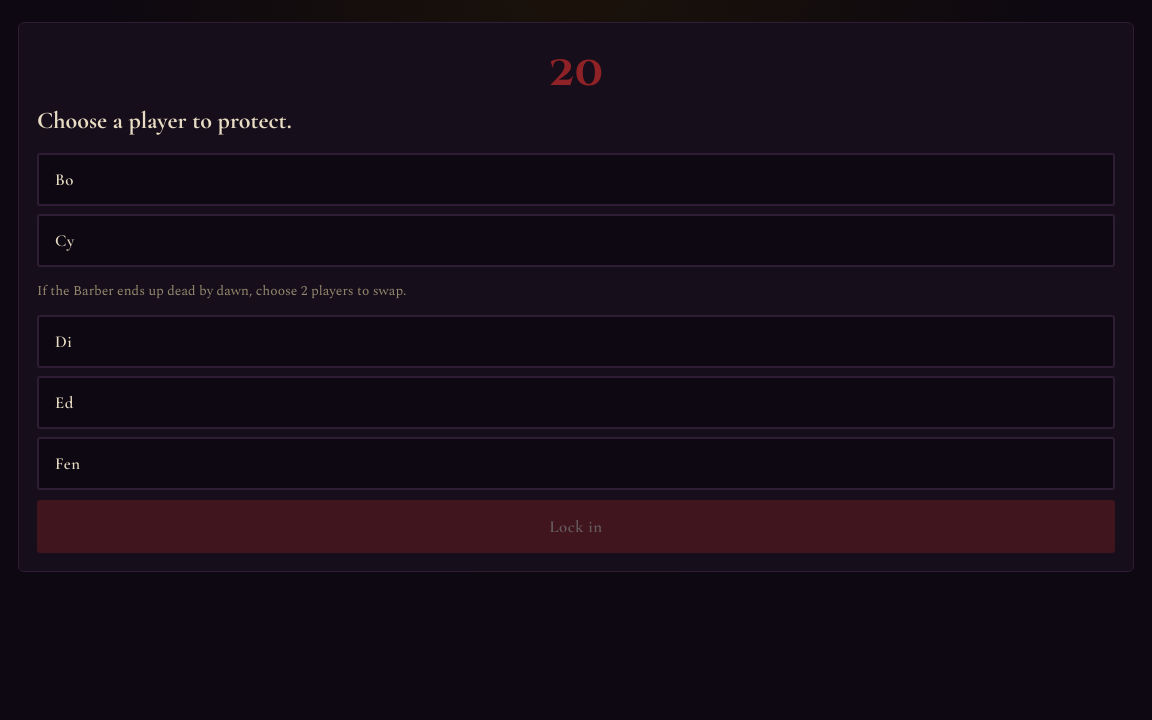
Test: NightPromptCard › the Barber-swap addon (prompt.barberSwap) › Lock in stays disabled with exactly one swap target picked — 0 or 2, never partial
The width and height of the screenshot is (1152, 720).
Click the button "Bo".
click(64, 180)  # box [37,153,1115,206]
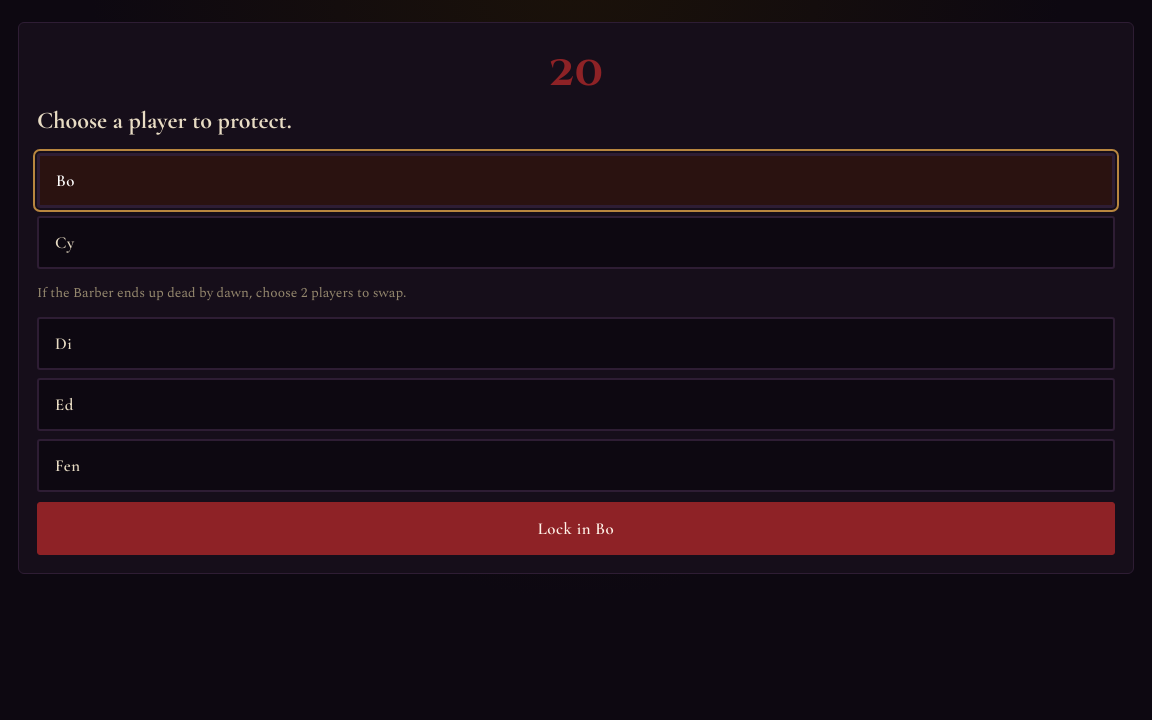
Click the button "Di".
click(64, 344)  # box [37,317,1115,370]
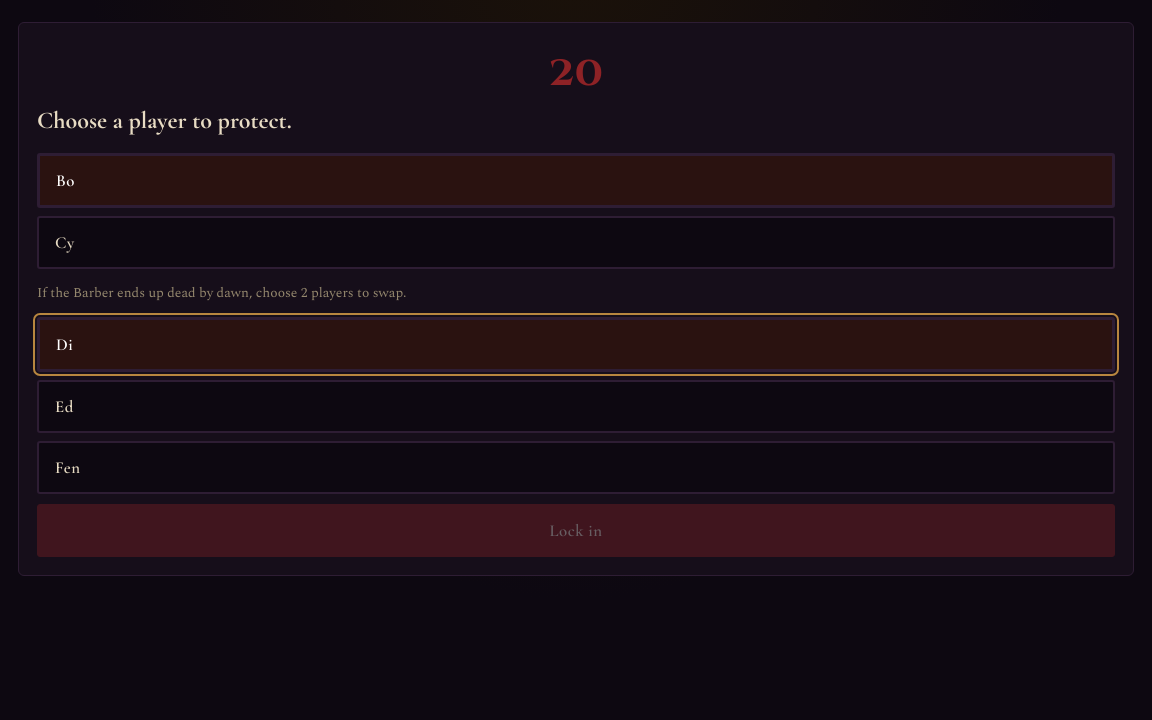
Expected: the button "Lock in" is disabled, [37,504,1115,557]
